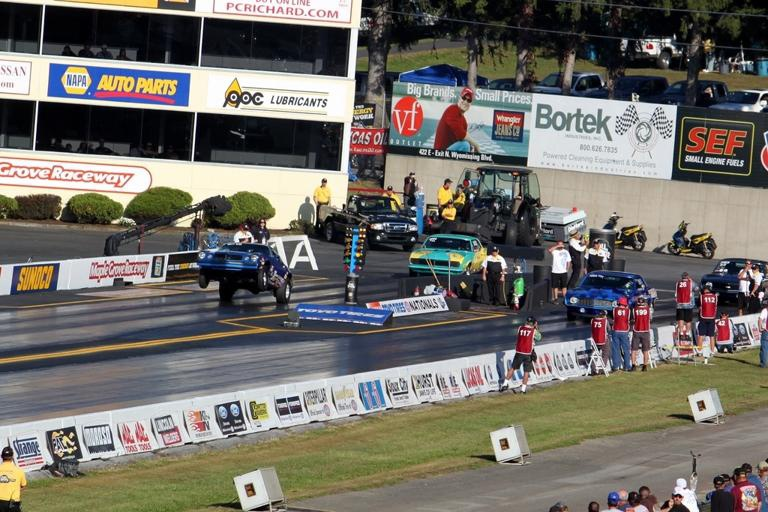non-vehicle: (667, 220, 715, 259), (602, 212, 645, 251)
